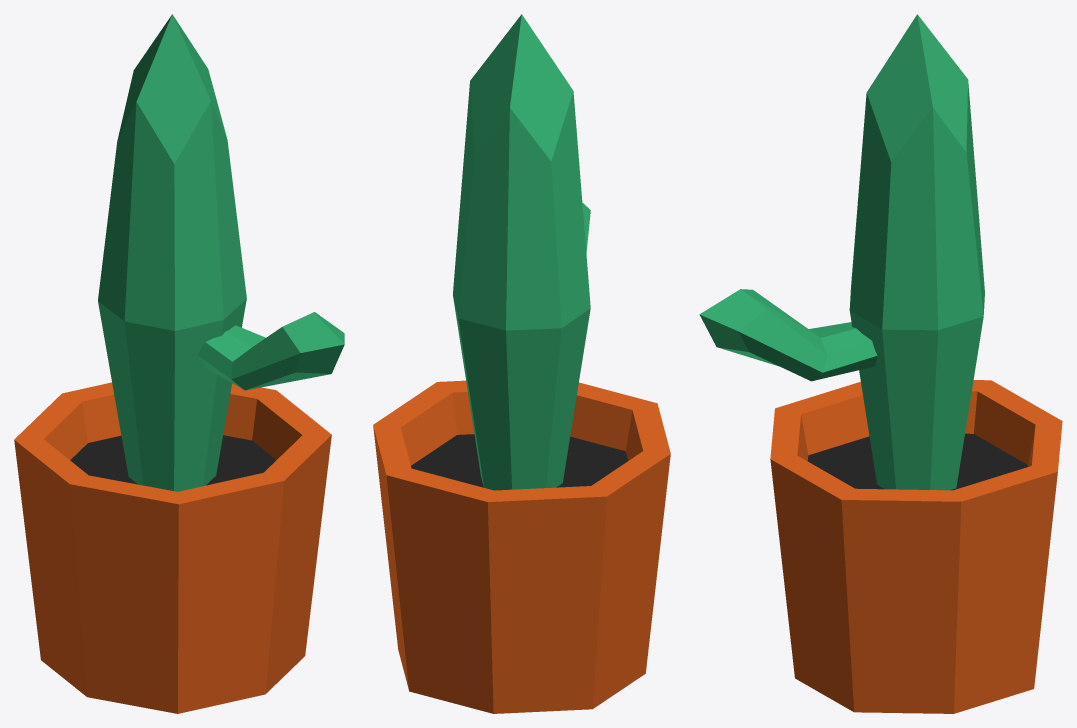
The model's file is Plant_Kitchen_Plant5_231109.glb.
3 views of the same model, side by side, from view 1: azimuth 30°, elevation 25°; view 2: azimuth 150°, elevation 25°; view 3: azimuth 270°, elevation 25° (orthographic).
Visible parts, largest first — view 1: Kitchen_Plant5; view 2: Kitchen_Plant5; view 3: Kitchen_Plant5.
Boxes of the visible parts, x1,y1,x2,y2 form: Kitchen_Plant5: (14, 14, 344, 713); Kitchen_Plant5: (373, 14, 670, 713); Kitchen_Plant5: (699, 14, 1062, 713).
Size of the model in its own units: 0.2363 by 0.5786 by 0.2936.
Materials: 1 (1 with a texture image).
